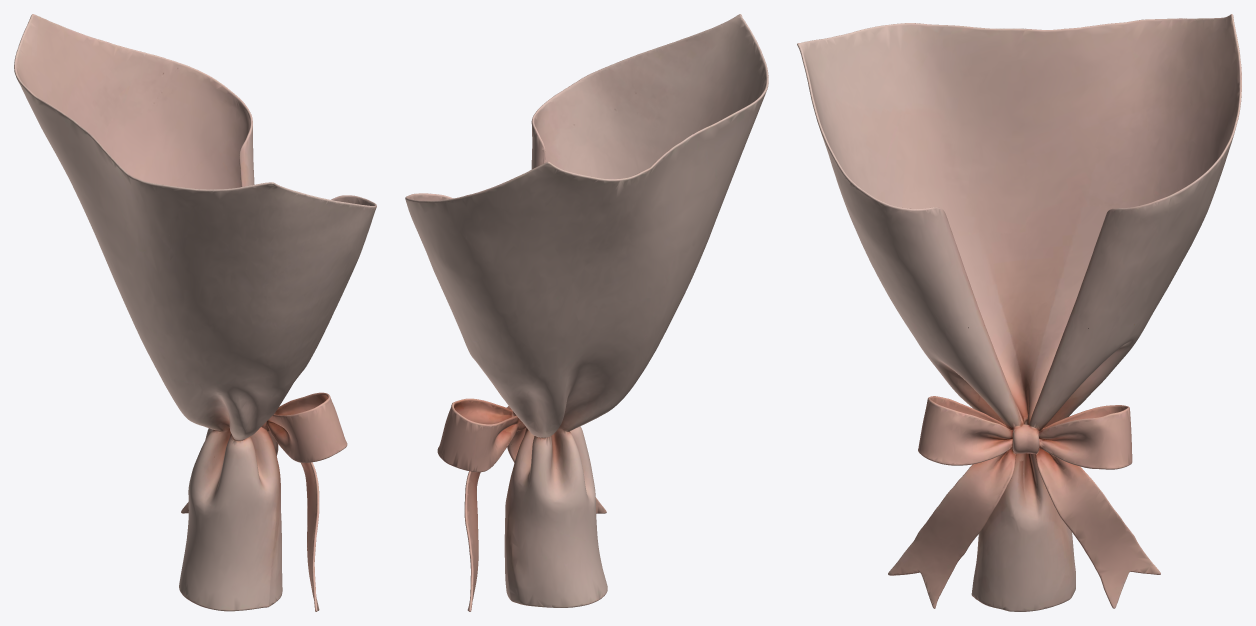
The model's file is Wrapper_Bouquet_Pink.glb.
The picture shows the model from 3 angles, left to right: view 1: azimuth 30°, elevation 25°; view 2: azimuth 150°, elevation 25°; view 3: azimuth 270°, elevation 25°; orthographic projection.
Parts seen in each view (by area): view 1: tripo_node_cec83d68-c6d1-41cc-bc96-ba6c5ad13457; view 2: tripo_node_cec83d68-c6d1-41cc-bc96-ba6c5ad13457; view 3: tripo_node_cec83d68-c6d1-41cc-bc96-ba6c5ad13457.
Part boxes in pixels (left/top/right/bottom): tripo_node_cec83d68-c6d1-41cc-bc96-ba6c5ad13457: left=14, top=14, right=376, bottom=611; tripo_node_cec83d68-c6d1-41cc-bc96-ba6c5ad13457: left=405, top=14, right=768, bottom=611; tripo_node_cec83d68-c6d1-41cc-bc96-ba6c5ad13457: left=797, top=14, right=1241, bottom=611.
Size of the model in its own units: 0.4554 by 1 by 0.7607.
1 material, 1 textured.
